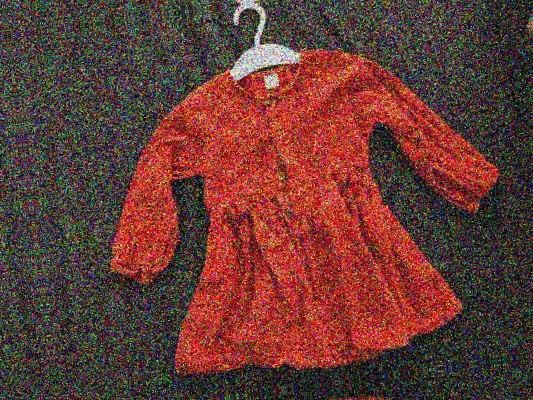Dress: (91, 0, 533, 400), (142, 363, 533, 400)
